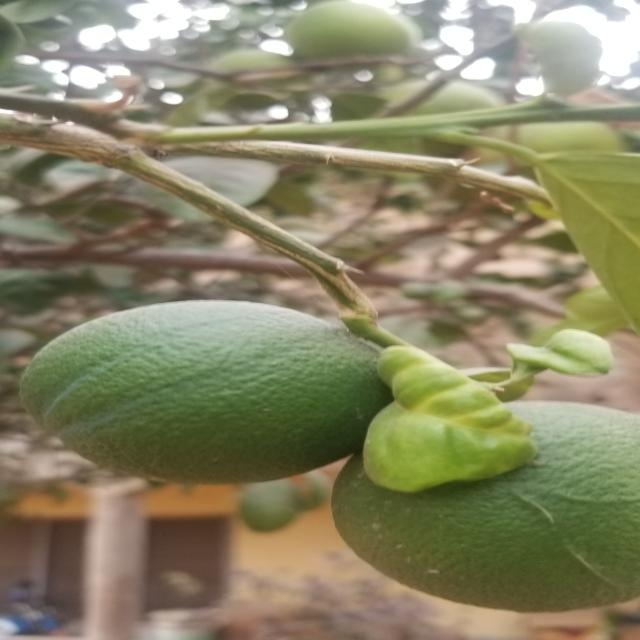agrume: (26, 295, 398, 495), (339, 398, 640, 615)
